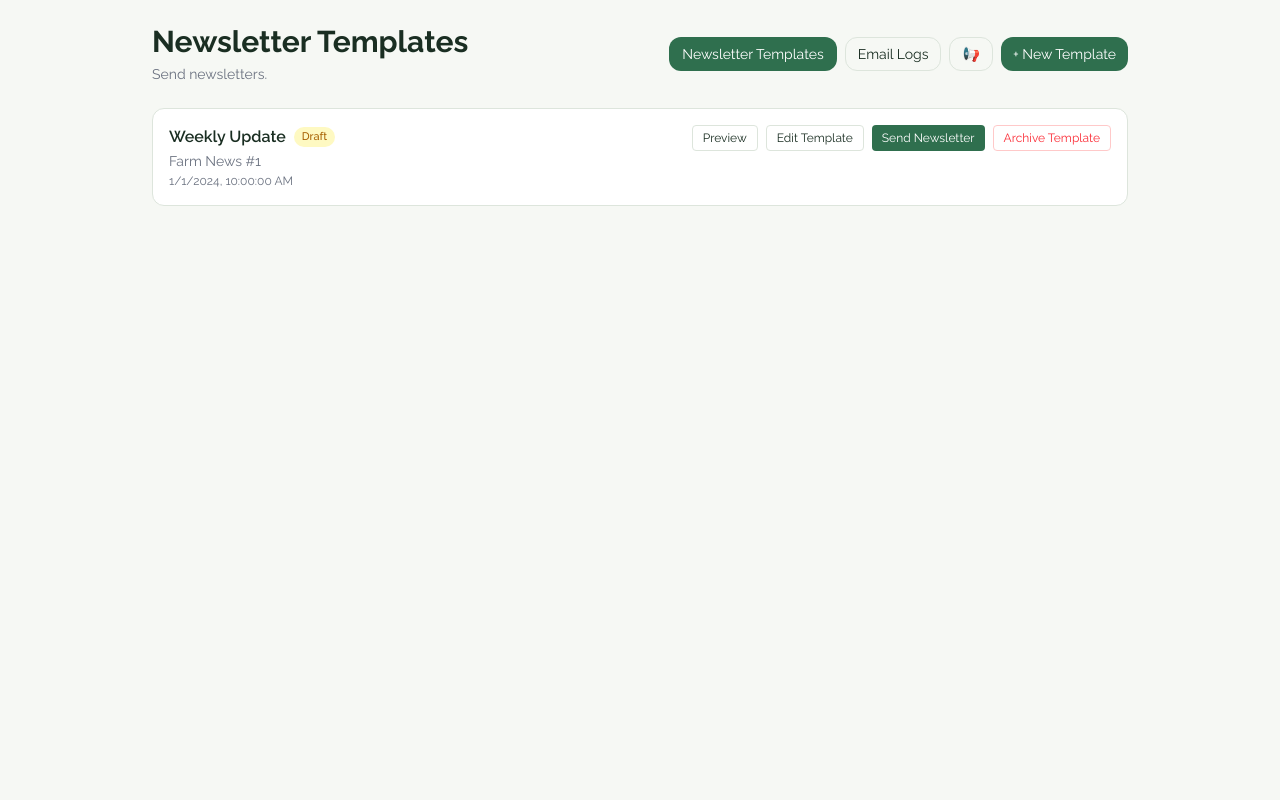
Test: NewsletterPage (template UI) › shows send error when SMTP/API fails
The width and height of the screenshot is (1280, 800).
Click the button "Send Newsletter": click(928, 138) [872, 125, 984, 151]
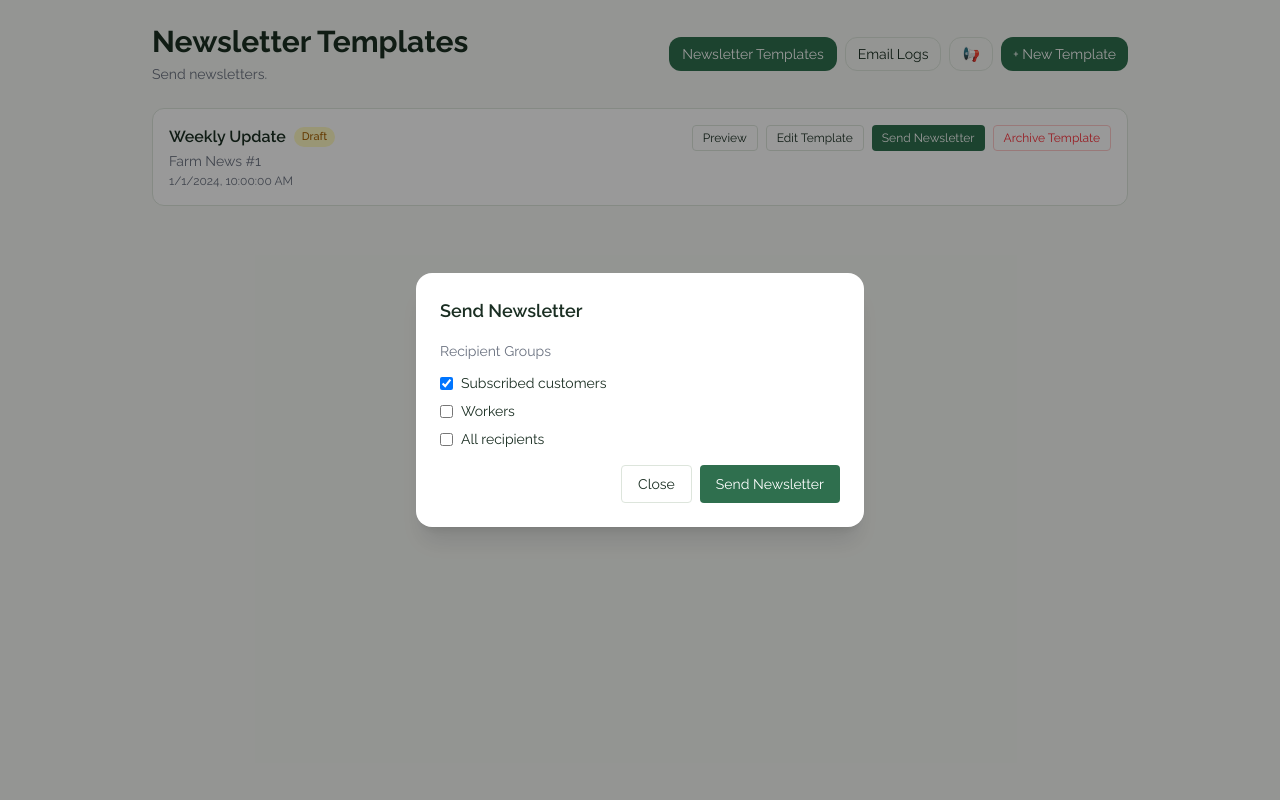
Result: the element with test id "send-modal" is shown
Click the button with test id "send-modal-submit": click(770, 484) [700, 465, 840, 503]
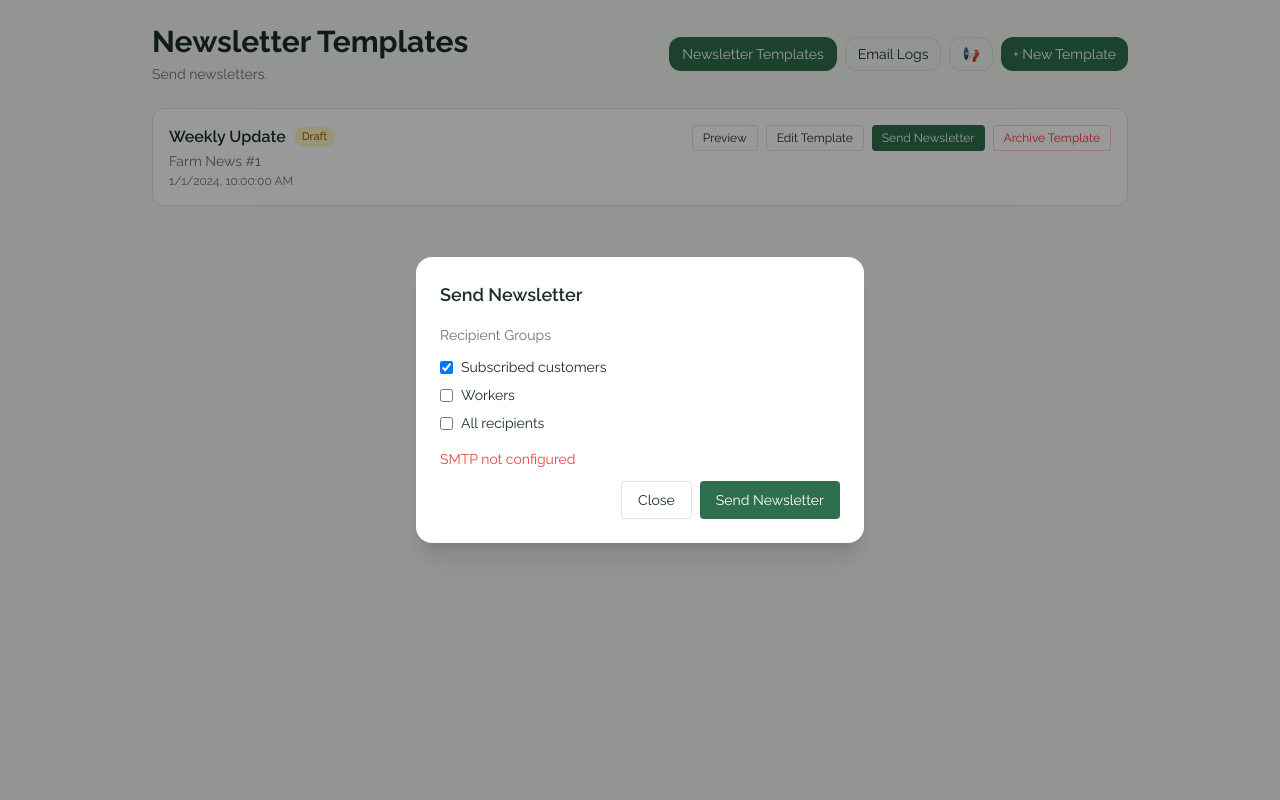
Result: the text with test id "send-modal-error" reads "SMTP not configured" at [440, 451, 576, 467]
